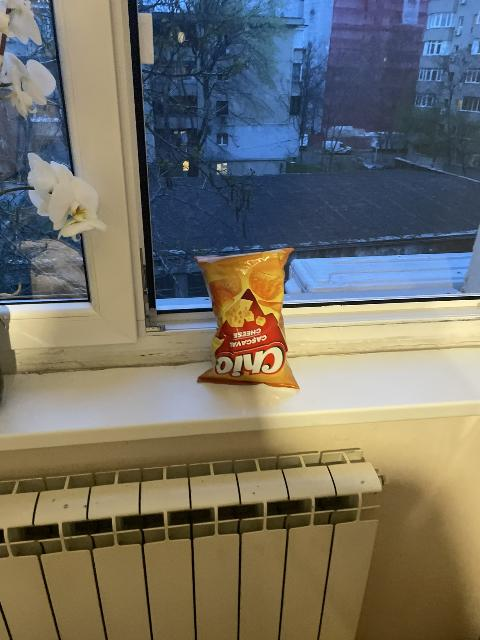Chio Cascaval 125g: (191, 251, 299, 386)
